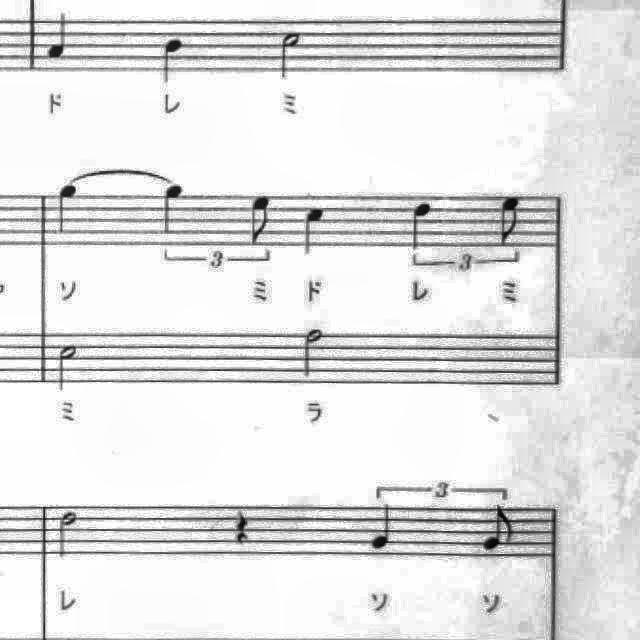Eighth-note: (478, 502, 520, 556), (242, 189, 278, 249), (492, 191, 528, 249)
Half-note: (271, 25, 309, 87), (296, 322, 332, 386), (50, 504, 86, 566), (52, 336, 86, 396)
Quarter-note: (294, 200, 334, 264), (42, 5, 82, 66), (364, 498, 404, 556), (156, 178, 192, 242), (52, 179, 88, 241), (406, 196, 442, 256), (156, 31, 192, 89)
Quarter-rest: (226, 504, 256, 552)
